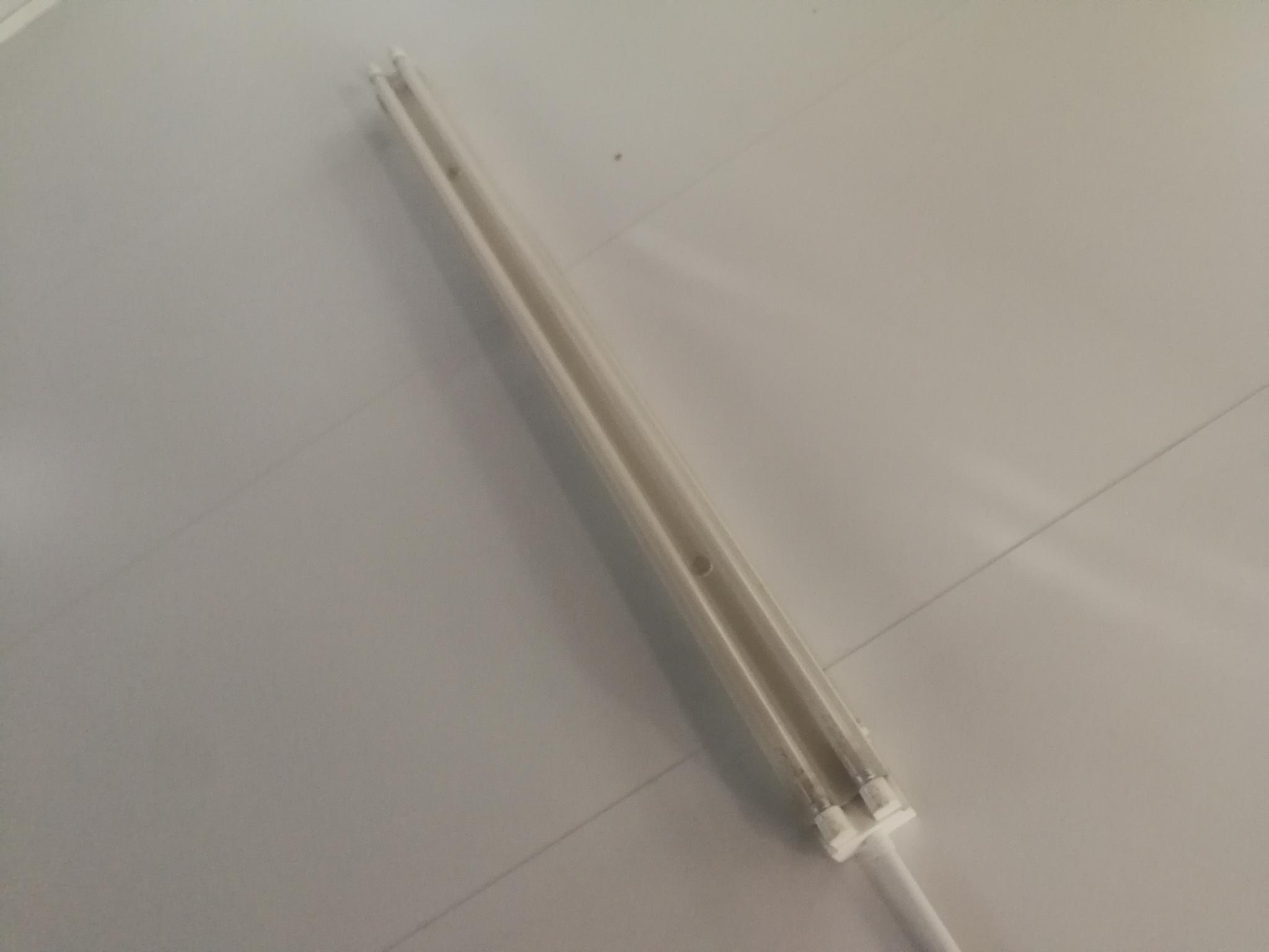light: (353, 45, 919, 866)
